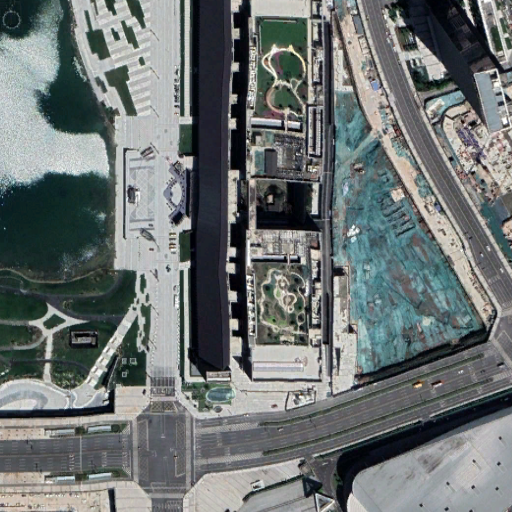cw: (330, 91, 486, 388)
